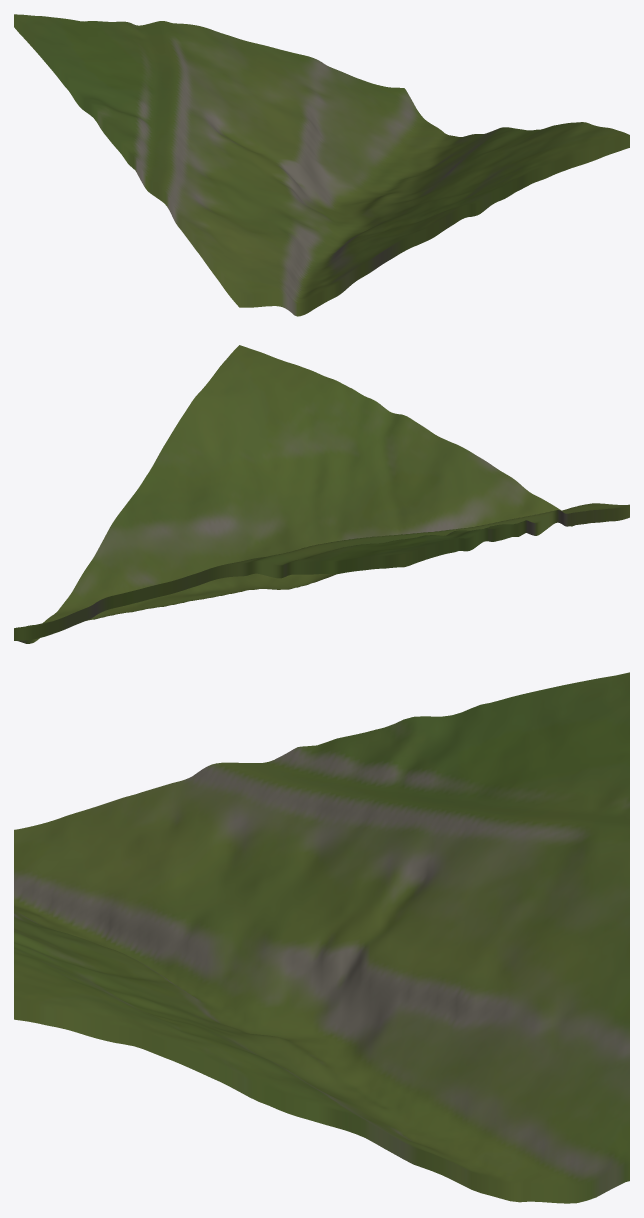
Rendered from terrain_3_-4.glb.
The picture shows the model from 3 angles, top to bottom: view 1: azimuth 30°, elevation 25°; view 2: azimuth 150°, elevation 25°; view 3: azimuth 270°, elevation 25°; orthographic projection. The views are drawn at different scales.
Visible parts, largest first — view 1: terrain_3_-4; view 2: terrain_3_-4; view 3: terrain_3_-4.
Boxes of the visible parts, left/top/right/bottom form: terrain_3_-4: left=14, top=14, right=629, bottom=316; terrain_3_-4: left=14, top=345, right=629, bottom=643; terrain_3_-4: left=14, top=672, right=629, bottom=1203.
Size of the model in its own units: 256 by 124 by 256.
